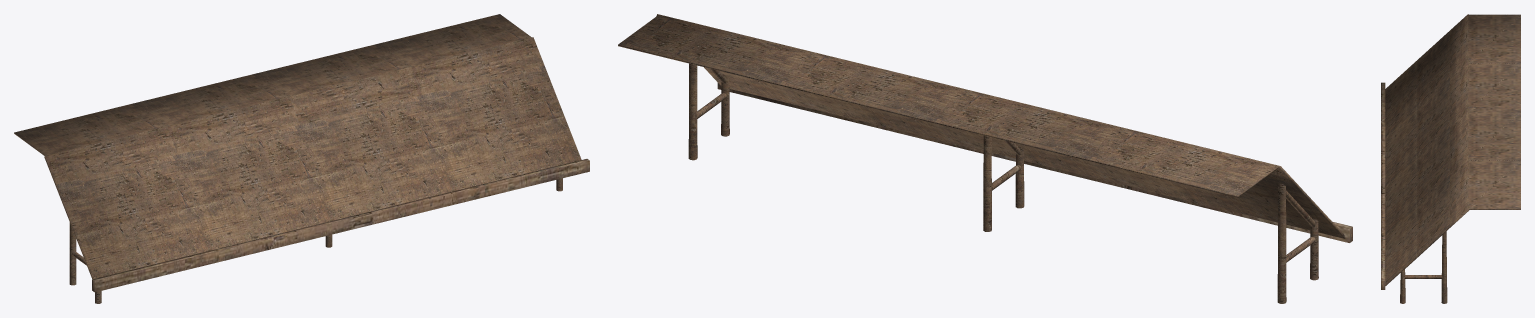
The model's file is card_shop_modell.glb.
3 renders of one model, left to right at view 1: azimuth 30°, elevation 25°; view 2: azimuth 150°, elevation 25°; view 3: azimuth 270°, elevation 25°, orthographic. The views are drawn at different scales.
Parts seen in each view (by area): view 1: Plane; view 2: Plane; view 3: Plane.
Part boxes in pixels (x1,y1,x2,y2): Plane: (14, 14, 589, 303); Plane: (618, 14, 1352, 303); Plane: (1381, 14, 1520, 303).
Bounding box in the file's own units: 38.64 × 8.98 × 11.52.
1 material, 1 textured.
